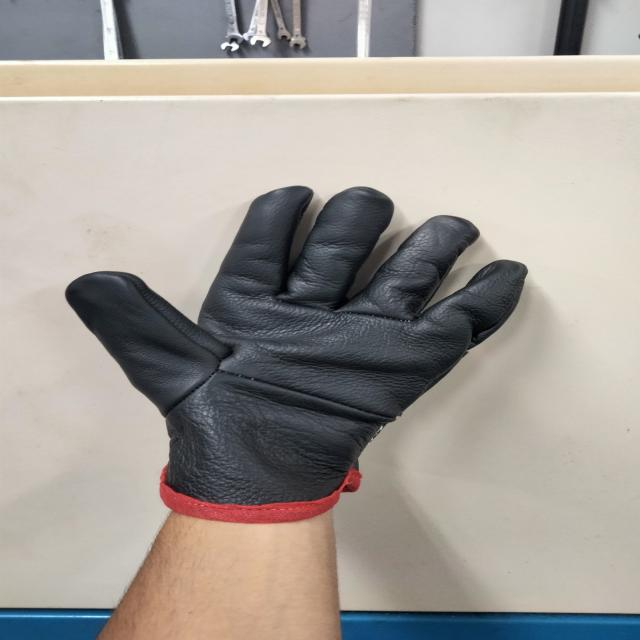Gloves: (66, 180, 542, 508)
